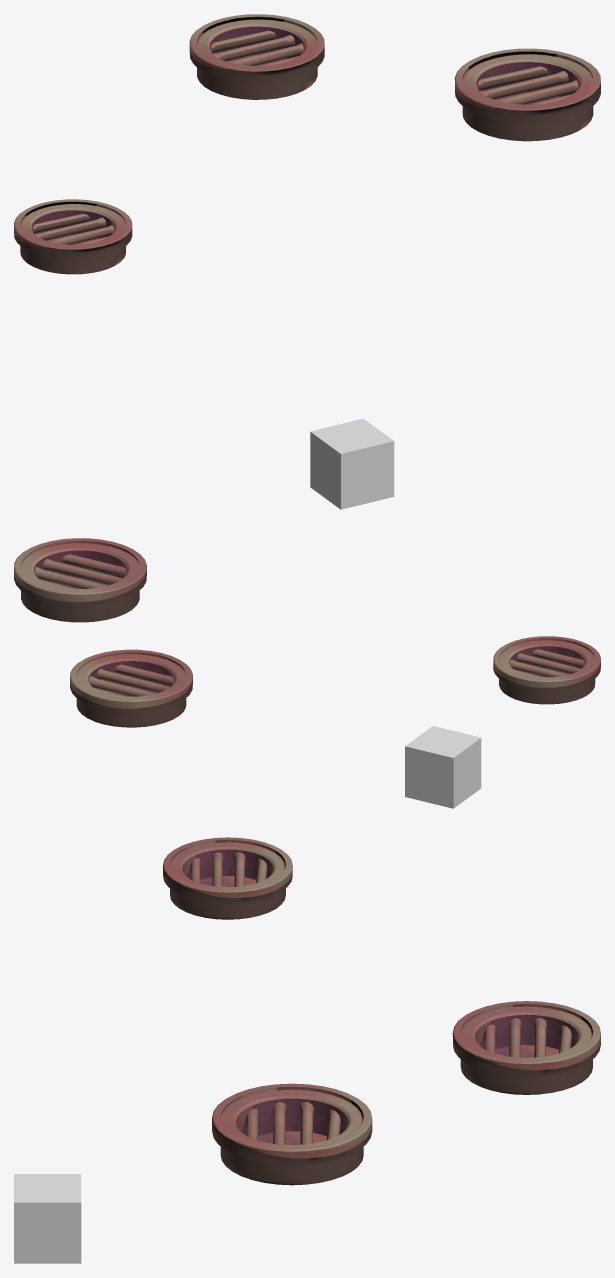
Rendered from battlescence-3-floor005.fbx.
3 views of the same model, one above another, from view 1: azimuth 30°, elevation 25°; view 2: azimuth 150°, elevation 25°; view 3: azimuth 270°, elevation 25° (orthographic). The views are drawn at different scales.
Visible parts, largest first — view 1: Cylinder.001, Cylinder.002, Cylinder.015, battlescence-3-floor005; view 2: Cylinder.001, Cylinder.002, Cylinder.015, battlescence-3-floor005; view 3: Cylinder.001, Cylinder.002, Cylinder.015, battlescence-3-floor005.
Boxes of the visible parts, box(x1,y1,x2,y2) form: Cylinder.001: box(454, 48, 600, 141); Cylinder.002: box(189, 14, 324, 99); Cylinder.015: box(14, 199, 132, 274); battlescence-3-floor005: box(310, 418, 394, 509); Cylinder.001: box(14, 538, 146, 622); Cylinder.002: box(70, 649, 192, 727); Cylinder.015: box(493, 636, 600, 704); battlescence-3-floor005: box(405, 726, 481, 808); Cylinder.001: box(212, 1083, 372, 1185); Cylinder.002: box(452, 1001, 600, 1094); Cylinder.015: box(163, 837, 292, 919); battlescence-3-floor005: box(14, 1174, 81, 1263).
Size of the model in its own units: 1666 by 695 by 1293.
